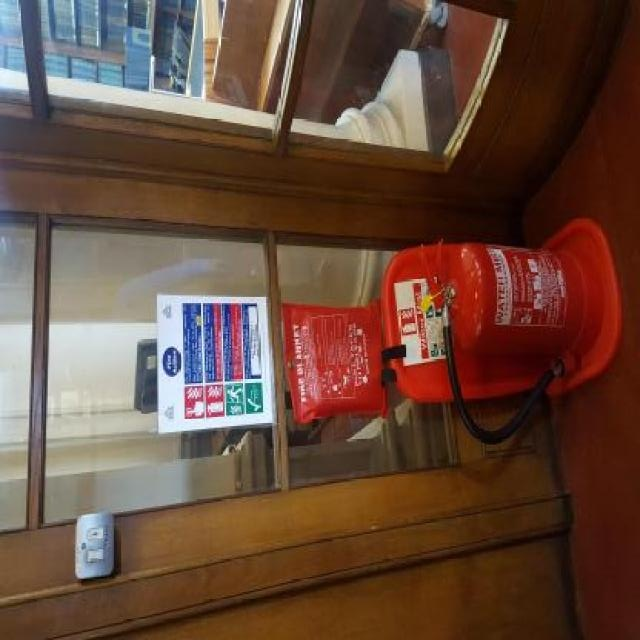fire extinguisher: (423, 222, 602, 447)
